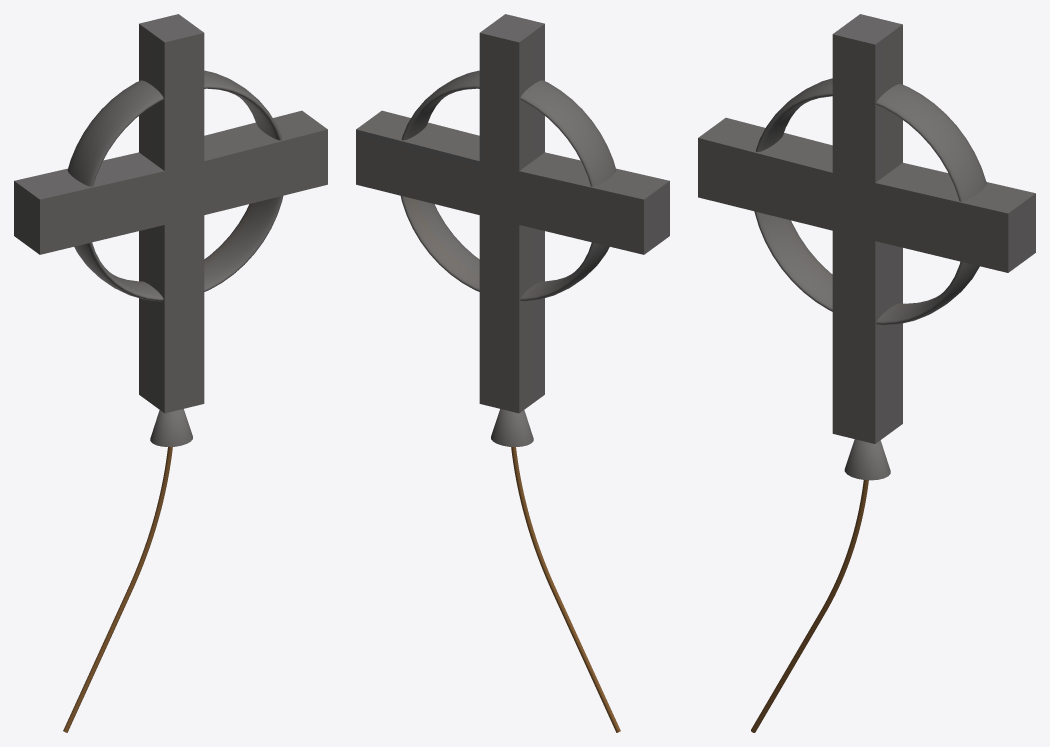
Rendered from HP Balloon.fbx.
The picture shows the model from 3 angles, left to right: view 1: azimuth 30°, elevation 25°; view 2: azimuth 150°, elevation 25°; view 3: azimuth 330°, elevation 25°; orthographic projection. The views are drawn at different scales.
Visible parts, largest first — view 1: pCylinder3; view 2: pCylinder3; view 3: pCylinder3.
Part boxes in pixels (left/top/right/bottom): pCylinder3: left=14, top=14, right=327, bottom=732; pCylinder3: left=356, top=14, right=669, bottom=732; pCylinder3: left=698, top=14, right=1035, bottom=732.
Size of the model in its own units: 17.2 by 38.74 by 2.66.
Materials: 1 (1 with a texture image).
